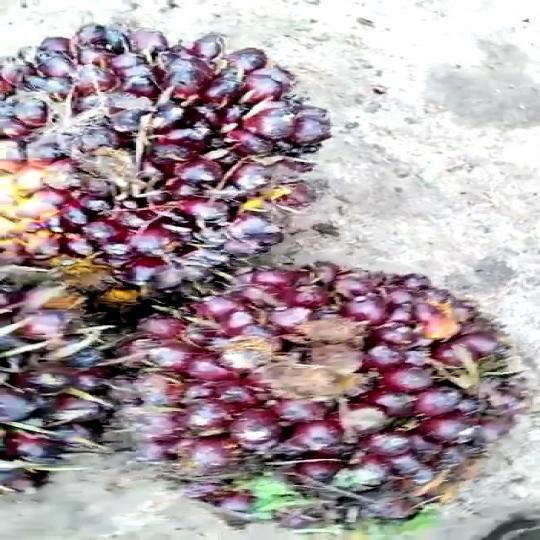kurang masak: (123, 268, 516, 537), (0, 12, 291, 311)
